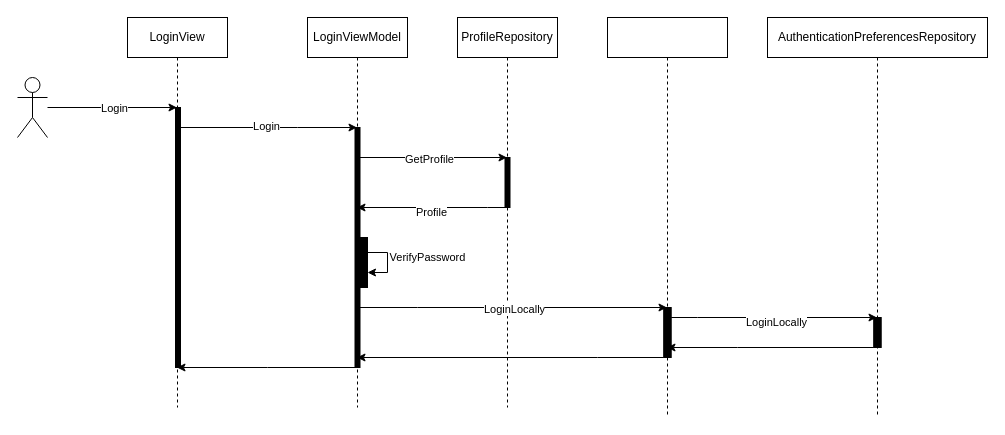
This 1005x435 diagram has some shape labels left out. Each missing label, with the box of its shape:
Actor: (16, 76, 48, 138)
AuthenticationService: (606, 16, 728, 418)
